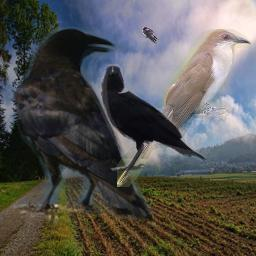Crow: (13, 27, 154, 227), (99, 64, 207, 171)
Cuckoo: (117, 29, 252, 187)
Swallow: (142, 26, 159, 44)
